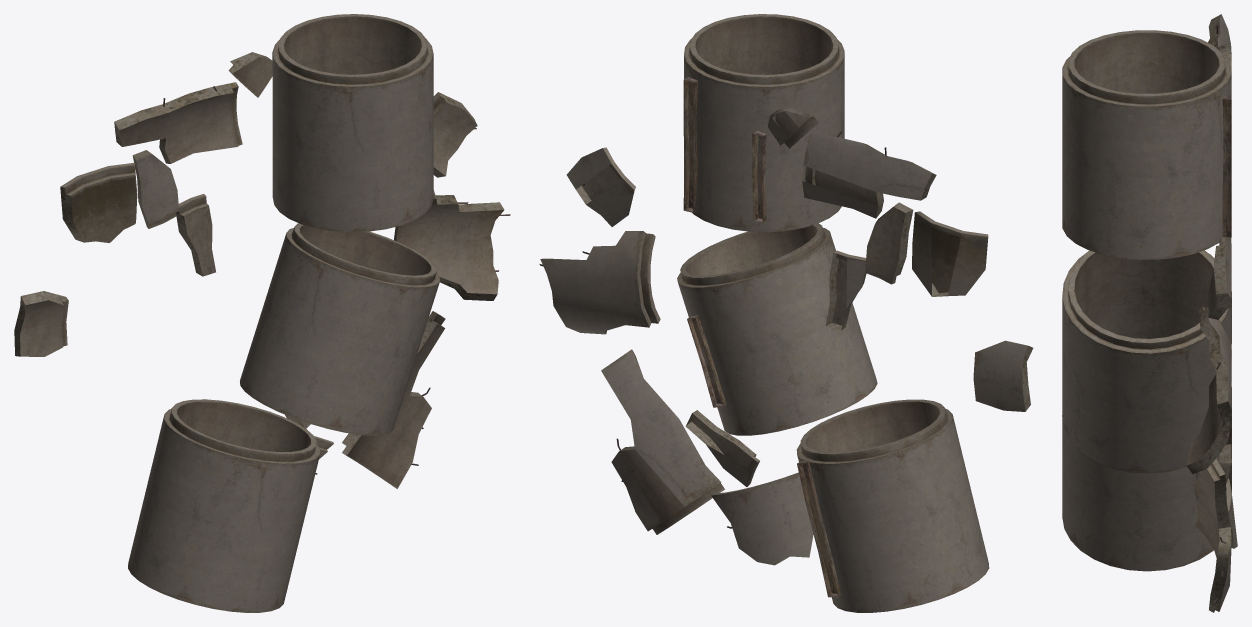
File: hd_envAM_032_ConcreteRings03.glb
The picture shows the model from 3 angles, left to right: view 1: azimuth 30°, elevation 25°; view 2: azimuth 150°, elevation 25°; view 3: azimuth 270°, elevation 25°; orthographic projection. The views are drawn at different scales.
Parts seen in each view (by area): view 1: set_0_group_1, set_0_group_0; view 2: set_0_group_1, set_0_group_0; view 3: set_0_group_1, set_0_group_0.
Boxes of the visible parts, x1=… form: set_0_group_1: x1=128, y1=14, x2=439, y2=612; set_0_group_0: x1=14, y1=52, x2=510, y2=488; set_0_group_1: x1=677, y1=14, x2=989, y2=612; set_0_group_0: x1=539, y1=107, x2=1033, y2=565; set_0_group_1: x1=1062, y1=30, x2=1231, y2=571; set_0_group_0: x1=1186, y1=14, x2=1237, y2=612.
Size of the model in its own units: 7.06 by 7.17 by 2.08.
Materials: 2 (2 with a texture image).
